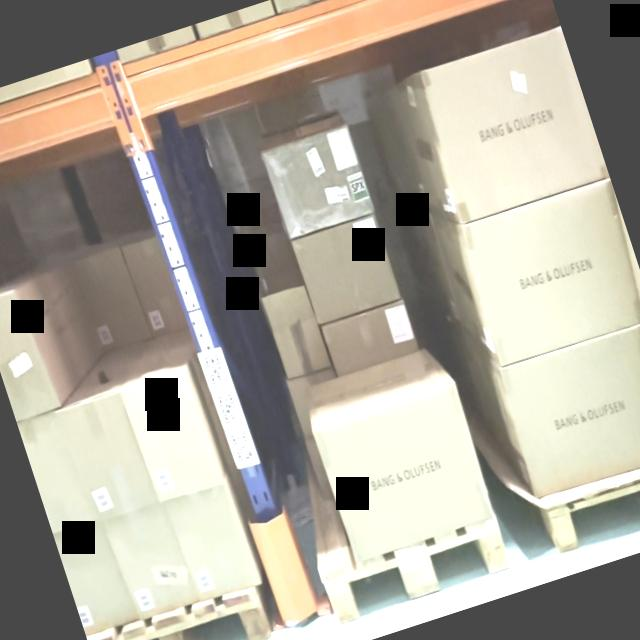box: (461, 183, 640, 365), (315, 389, 496, 563), (502, 328, 640, 503), (119, 369, 224, 500), (264, 126, 376, 240), (63, 394, 162, 513), (166, 485, 262, 606), (296, 215, 400, 319), (103, 506, 197, 614)
